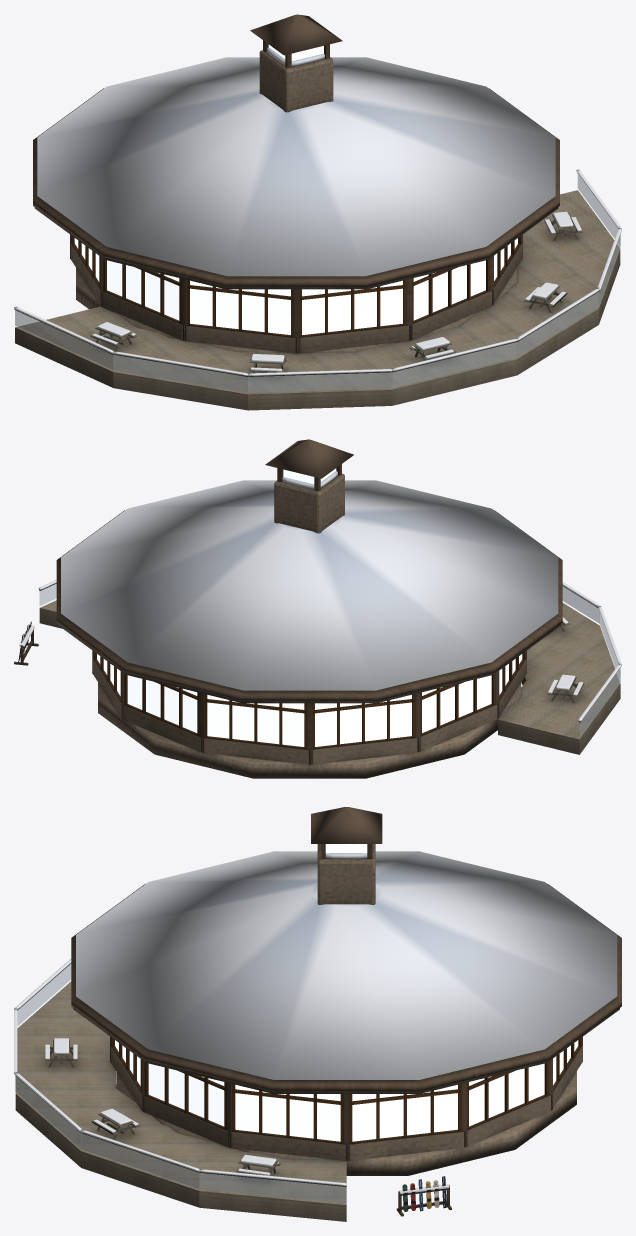
File: john_paul_lodge.glb
3 renders of one model, top to bottom at view 1: azimuth 30°, elevation 25°; view 2: azimuth 150°, elevation 25°; view 3: azimuth 270°, elevation 25°, orthographic. The views are drawn at different scales.
Parts seen in each view (by area): view 1: john_paul_lodge_snow, john_paul_lodge, john_paul_lodge_lit, john_paul_lodge_glass; view 2: john_paul_lodge_snow, john_paul_lodge, john_paul_lodge_lit, john_paul_lodge_glass; view 3: john_paul_lodge_snow, john_paul_lodge, john_paul_lodge_lit, john_paul_lodge_glass.
Boxes of the visible parts, x1,y1,x2,y2 form: john_paul_lodge_snow: (14, 47, 621, 376); john_paul_lodge: (14, 14, 620, 410); john_paul_lodge_lit: (74, 44, 517, 334); john_paul_lodge_glass: (15, 174, 620, 392); john_paul_lodge_snow: (19, 471, 621, 721); john_paul_lodge: (14, 439, 620, 778); john_paul_lodge_lit: (97, 468, 522, 746); john_paul_lodge_glass: (39, 584, 620, 737); john_paul_lodge_snow: (14, 851, 617, 1194); john_paul_lodge: (15, 807, 621, 1221); john_paul_lodge_lit: (115, 844, 578, 1141); john_paul_lodge_glass: (15, 964, 346, 1203).
Bounding box in the file's own units: 35.16 × 15.71 × 31.35.
4 materials, 1 textured.
